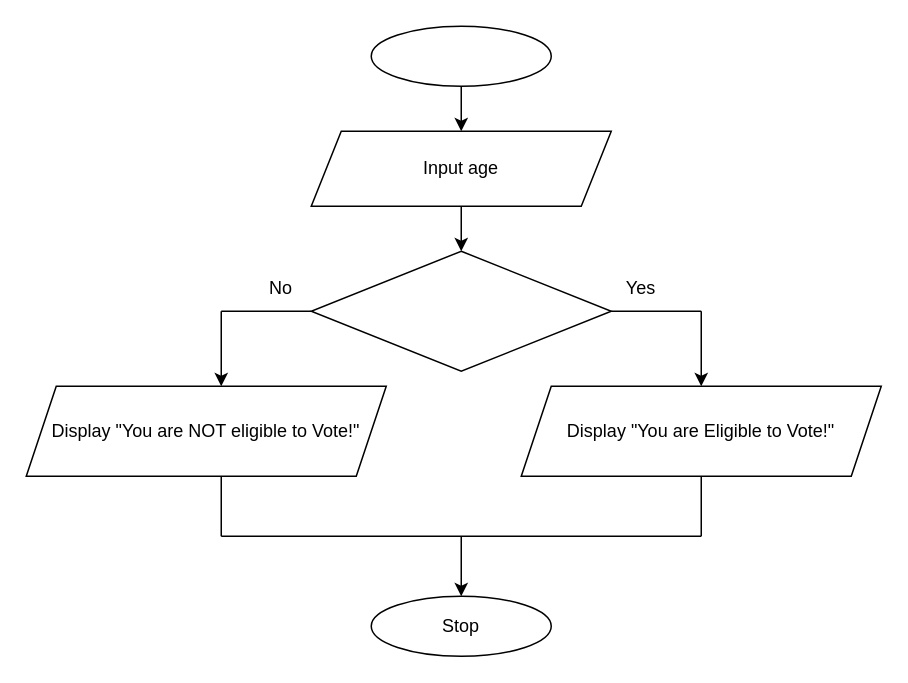
This 908x683 diagram has some shape labels left out. The centre of each missing label's shape, as x and y in pixels:
Is age >=18: pixel 460 310
Start: pixel 460 55
